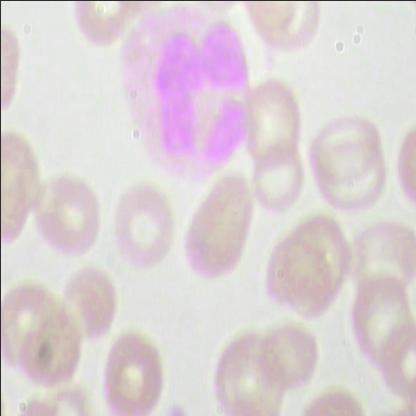RBC: (178, 163, 260, 285), (280, 212, 356, 323), (107, 171, 178, 272), (99, 325, 170, 415), (242, 72, 302, 172), (307, 110, 384, 187), (32, 171, 100, 256), (255, 320, 320, 402), (58, 261, 119, 347), (0, 125, 38, 248), (246, 147, 306, 216)
WBC: (114, 6, 257, 188)
